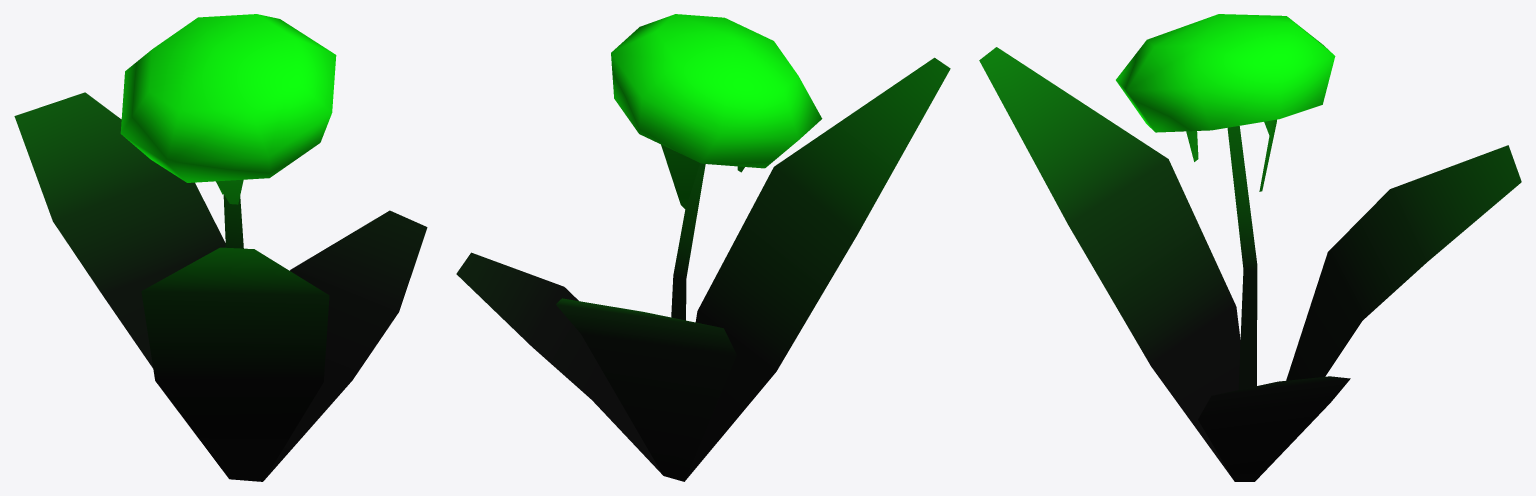
Rendered from IL3DN_Plant_Flower_01.fbx.
3 renders of one model, left to right at view 1: azimuth 30°, elevation 25°; view 2: azimuth 150°, elevation 25°; view 3: azimuth 270°, elevation 25°, orthographic. The views are drawn at different scales.
Parts seen in each view (by area): view 1: Nature_Plant_Flower_01; view 2: Nature_Plant_Flower_01; view 3: Nature_Plant_Flower_01.
Part boxes in pixels (x1,y1,x2,y2): Nature_Plant_Flower_01: (14,14,427,481); Nature_Plant_Flower_01: (456,14,950,481); Nature_Plant_Flower_01: (979,14,1521,481).
Bounding box in the file's own units: 11.85 × 14.78 × 16.19.
